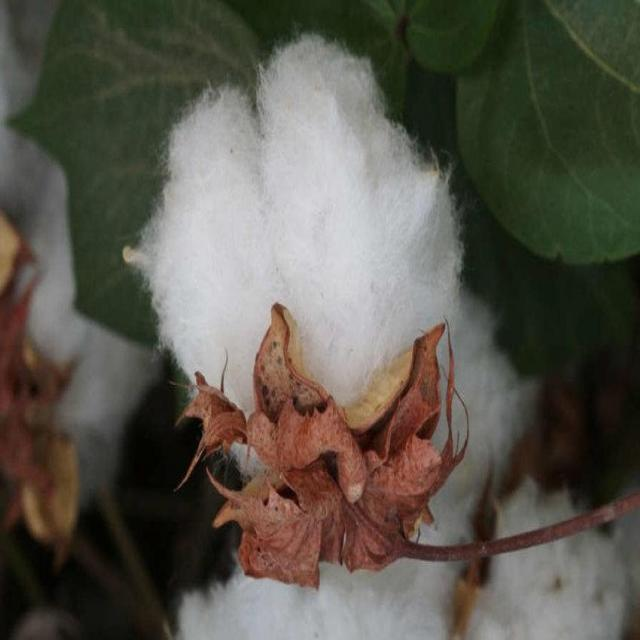Leaf: (125, 28, 483, 605)
